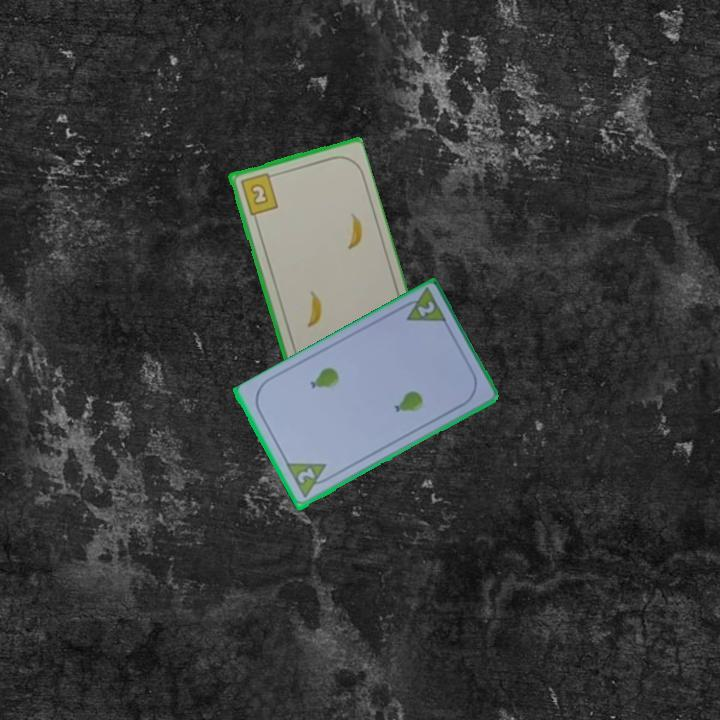2b: (237, 169, 281, 218)
2p: (396, 285, 450, 327), (283, 459, 335, 502)
